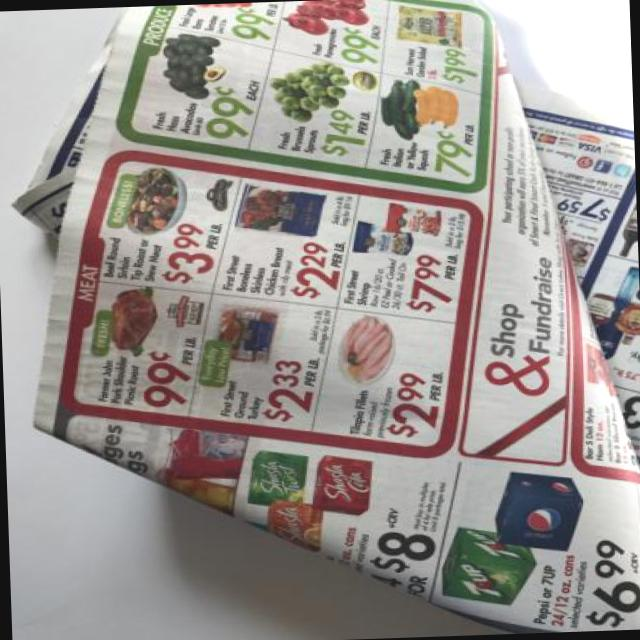paper: (57, 0, 640, 631)
